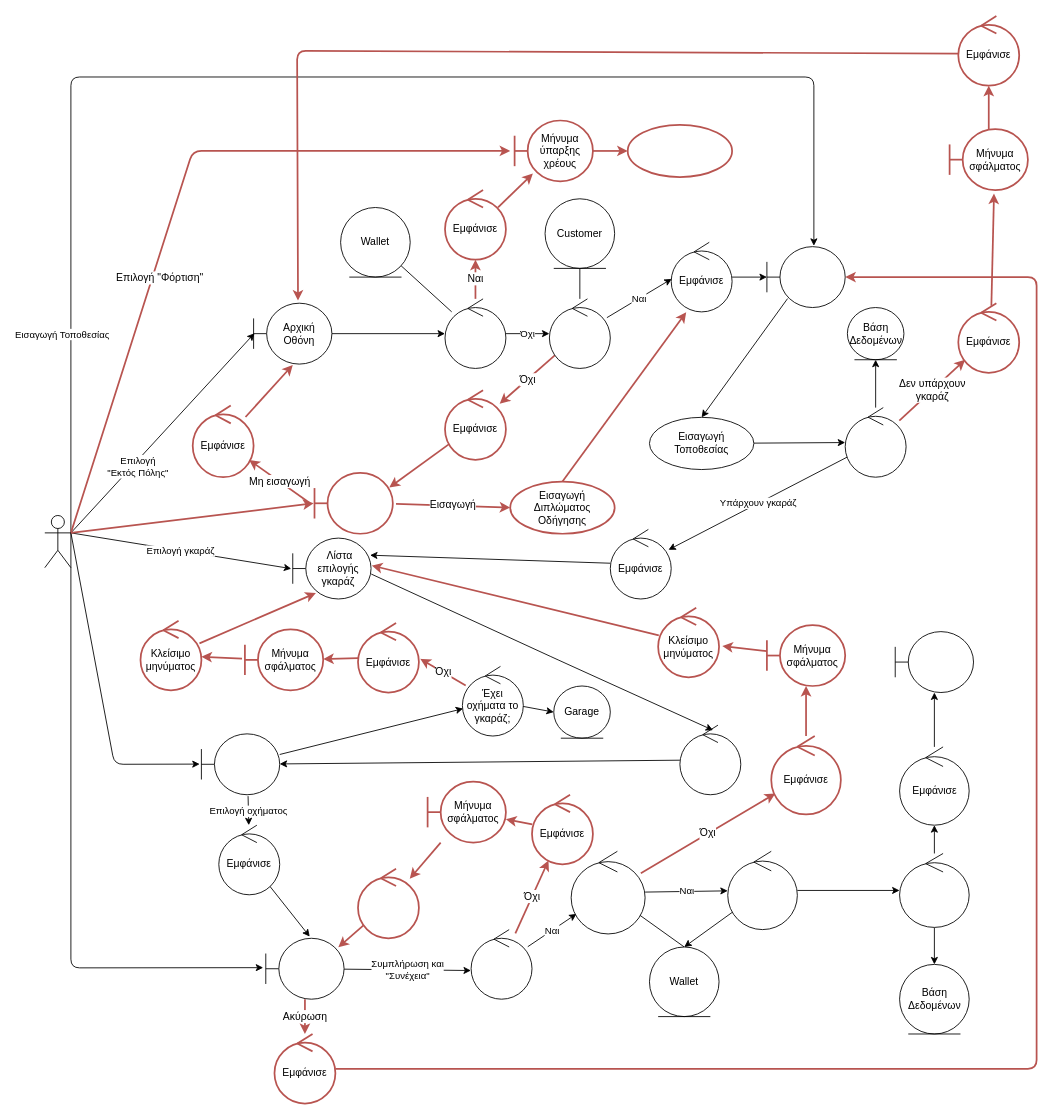
The diagram is 1059 pixels wide and 1119 high, and some of its shapes have lost their labels. Each missing label, with the centre of its shape:
Έχει ο πελάτης κατάλληλο δίπλωμα;: the point at 579,333
Έχει ο πελάτης χρέος;: the point at 475,333
Ανάκτηση και έλεγχος γκαράζ: the point at 875,442
Αποθήκευση: the point at 934,890
Αφαίρεση χρηματικού ποσού από πορτοφόλι: the point at 762,890
Διαθέτει ο πελάτης το χρηματικό ποσό;: the point at 607,892
Είναι όλα τα στοιχεία έγκυρα;: the point at 501,964
Εκκαθάριση φόρμας: the point at 388,903
Εμφάνισε πληροφορίες γκαράζ: the point at 710,759
Επιλογή εισαγωγής διπλώματος: the point at 353,503
Μήνυμα επιτυχίας: the point at 934,662
Οθόνη "Εκτός Πόλης": the point at 805,277
Πελάτης: the point at 57,541
Πληροφορίες γκαράζ: the point at 240,764
Φόρμα κράτησης: the point at 304,968
Φόρτιση Πορτοφολιού: the point at 679,150
